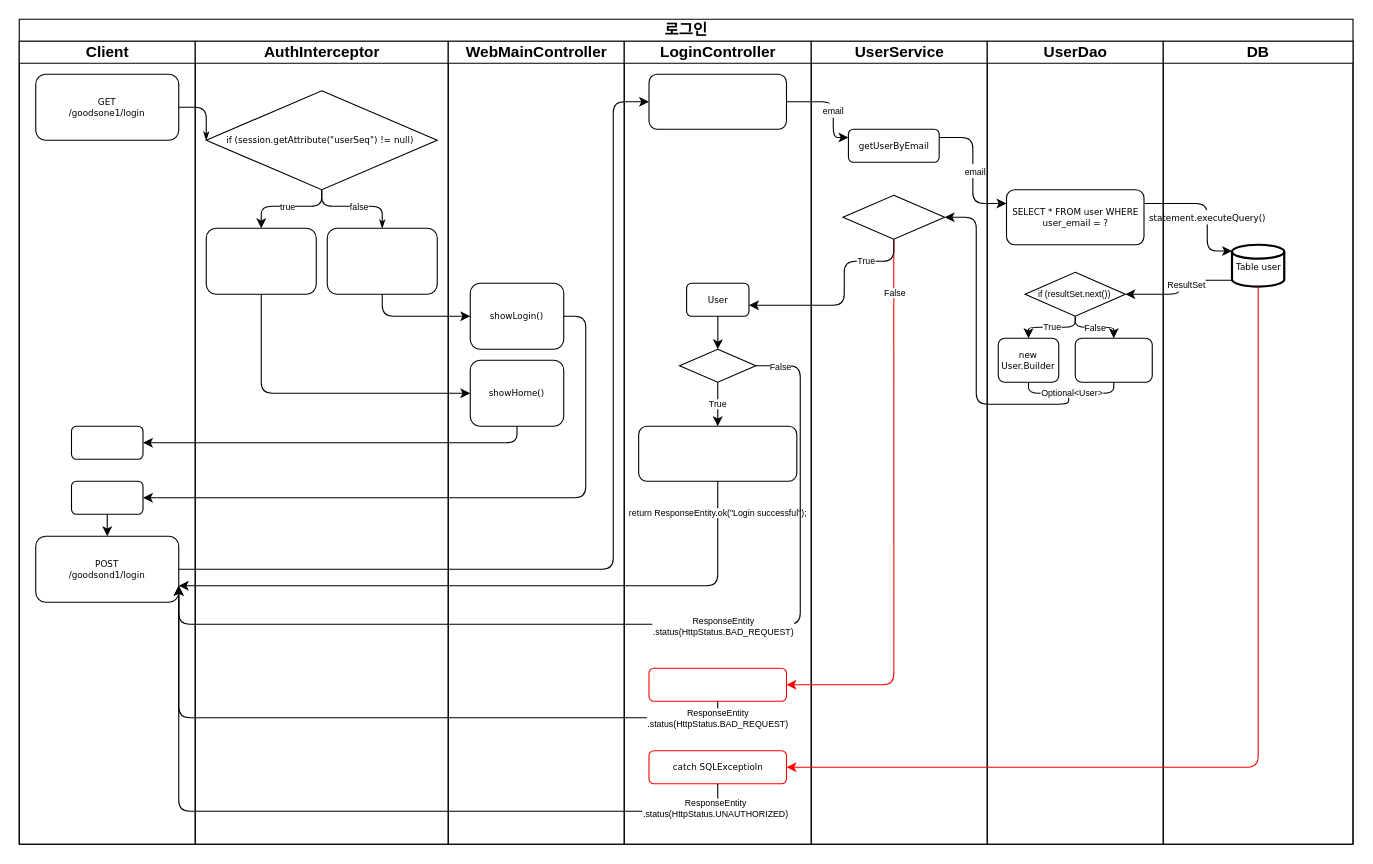
The diagram is 1373 pixels wide and 864 high, and some of its shapes have lost their labels. Each missing label, with the centre of its shape:
catch UserNotFoundException: (x=717, y=684)
equals: (x=717, y=365)
home.jsp: (x=106, y=442)
login(@RequestParam String email, @RequestParam String password, ... ): (x=717, y=101)
login.jsp: (x=106, y=497)
Optional.empty(): (x=1113, y=359)
orElseThrow: (x=893, y=216)
response. sendRedirect ("/goodsone1/home"); return false;: (x=260, y=260)
return true;: (x=381, y=260)
session.setAttribute ("userSeq", Long.valueOf(user.getUserSeq()));: (x=717, y=453)
